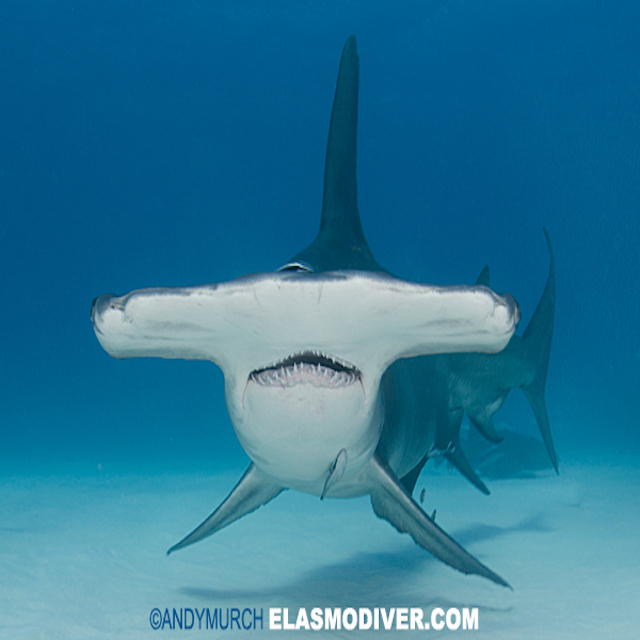hammerhead: (50, 222, 567, 470)
